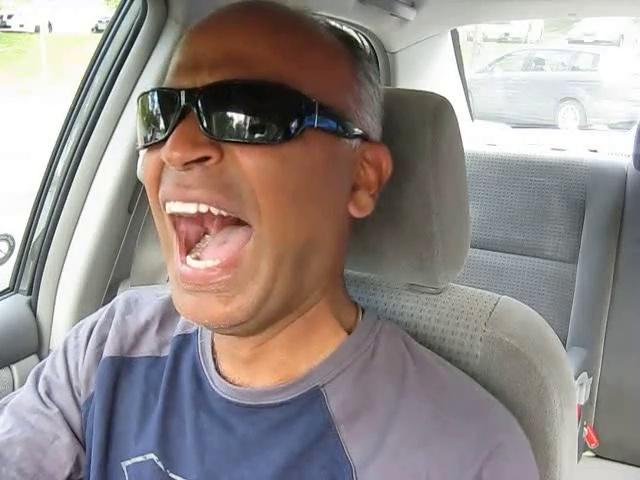yawn: (146, 186, 267, 287)
